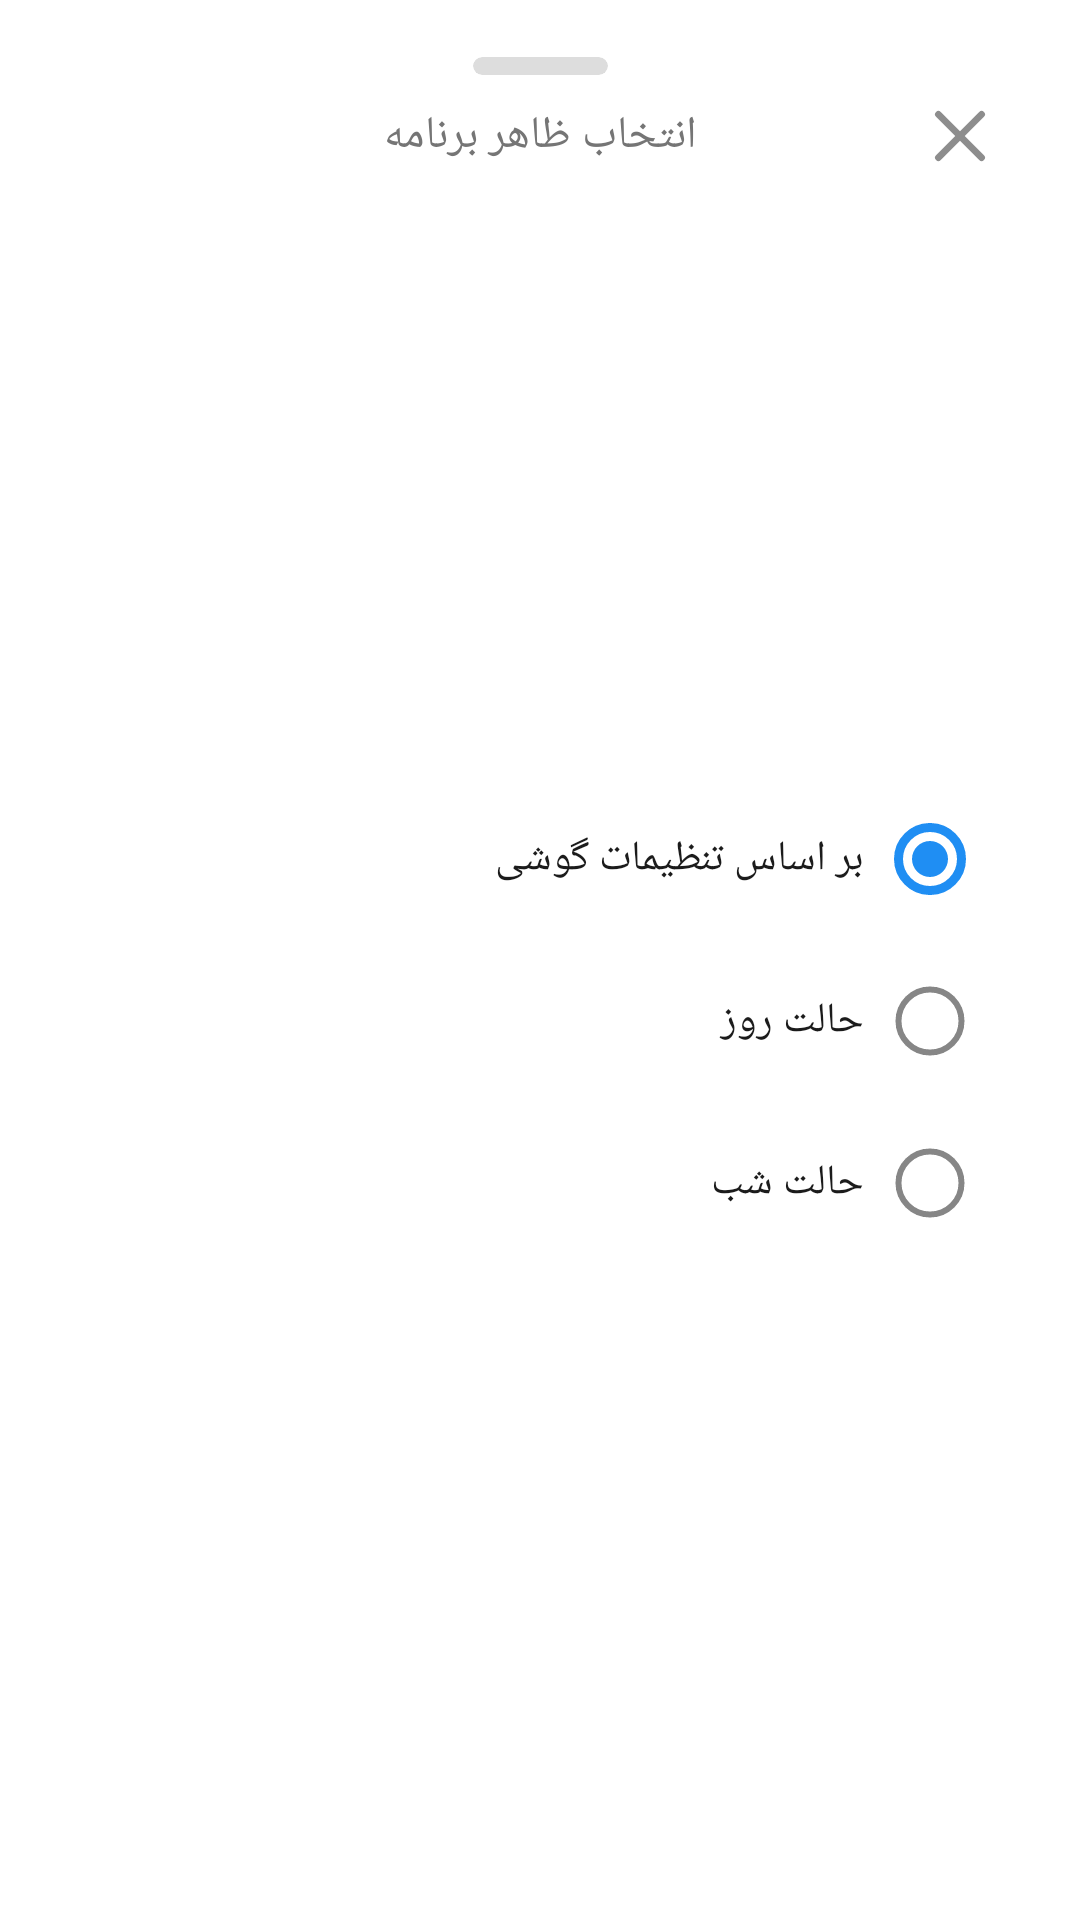

Icon click points for this 1080x1920 phone screenshot, format point (x, y):
بستن: point (960, 136)
